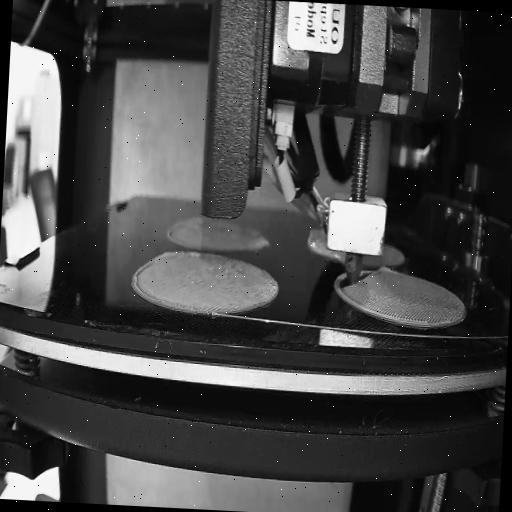over_extrusion: (128, 254, 156, 302), (377, 264, 401, 277)
